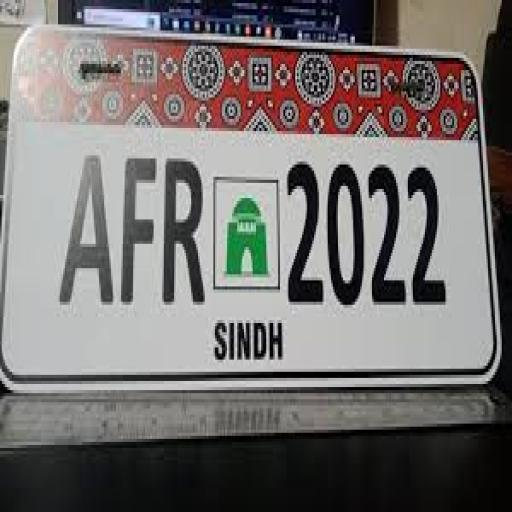0: (327, 161, 364, 315)
2: (406, 157, 460, 316), (281, 157, 325, 310), (369, 156, 406, 330)
A: (58, 141, 112, 320)
F: (124, 149, 155, 314)
R: (164, 151, 207, 318)
